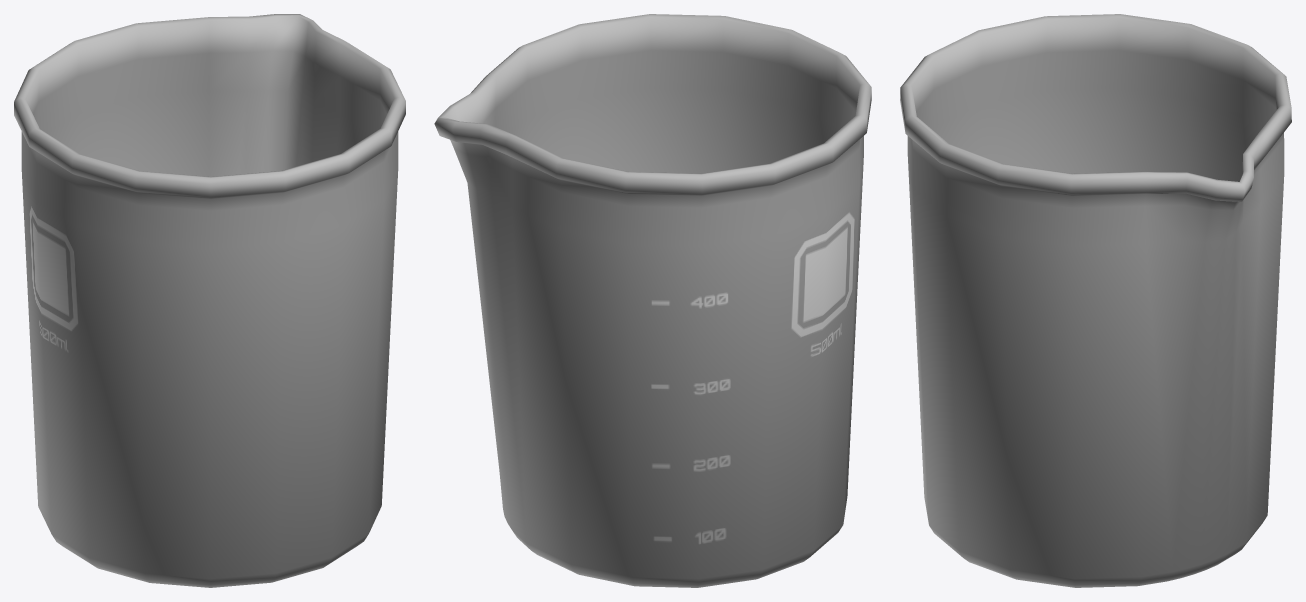
The model's file is lab_beaker.fbx.
3 renders of one model, left to right at view 1: azimuth 30°, elevation 25°; view 2: azimuth 150°, elevation 25°; view 3: azimuth 270°, elevation 25°, orthographic.
Visible parts, largest first — view 1: lab_beaker; view 2: lab_beaker; view 3: lab_beaker.
Boxes of the visible parts, x1,y1,x2,y2 form: lab_beaker: (14,14,405,587); lab_beaker: (434,14,871,587); lab_beaker: (900,14,1291,587).
Size of the model in its own units: 16.87 by 20.41 by 16.87.
1 material, 1 textured.
